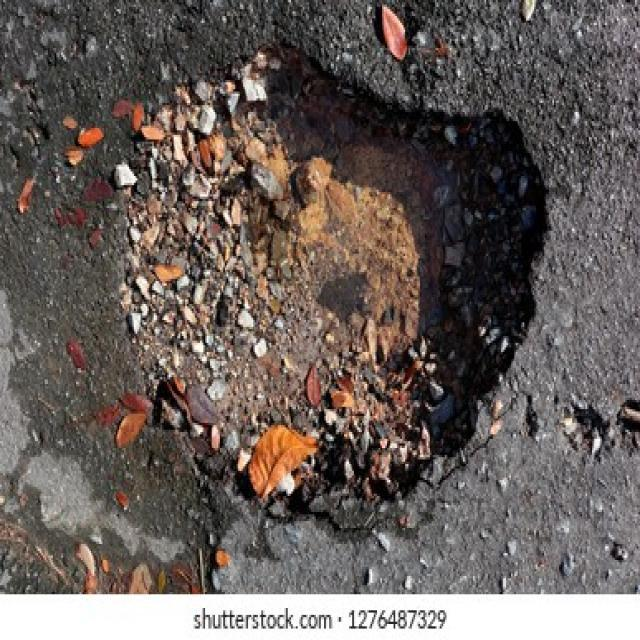Pothole: (55, 32, 562, 526)
